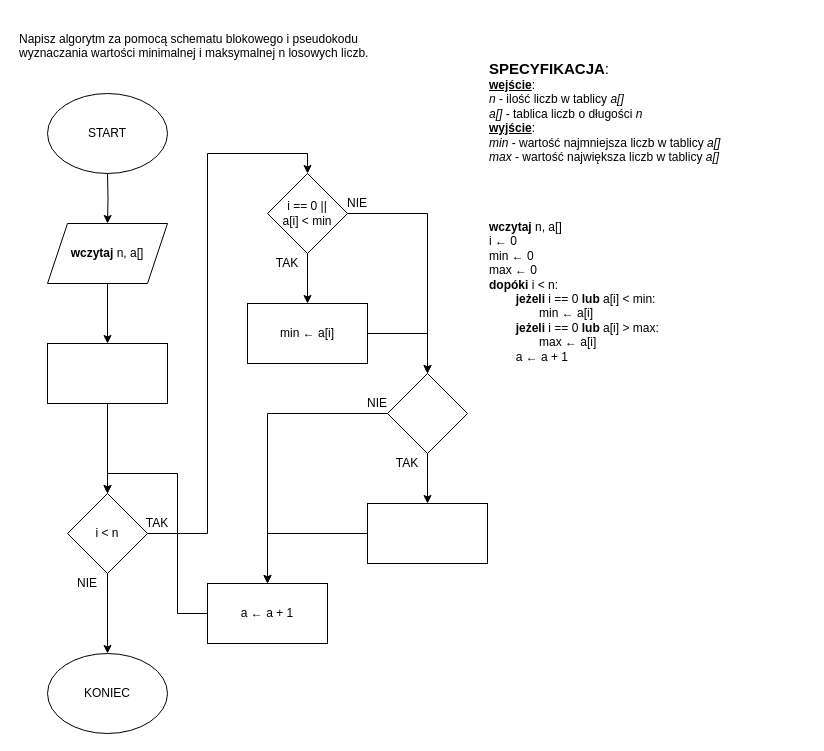
Some shapes in this 824 by 751 pixel diagram are drawn without their labels. The shapes that lost their labels are listed below. From the top down, each one's centre as x and y in pixels, then its label:
point (107, 373): i ← 0 min ← 0 max ← 0
point (427, 413): i == 0 || a[i] > max
point (427, 533): max ← a[i]
